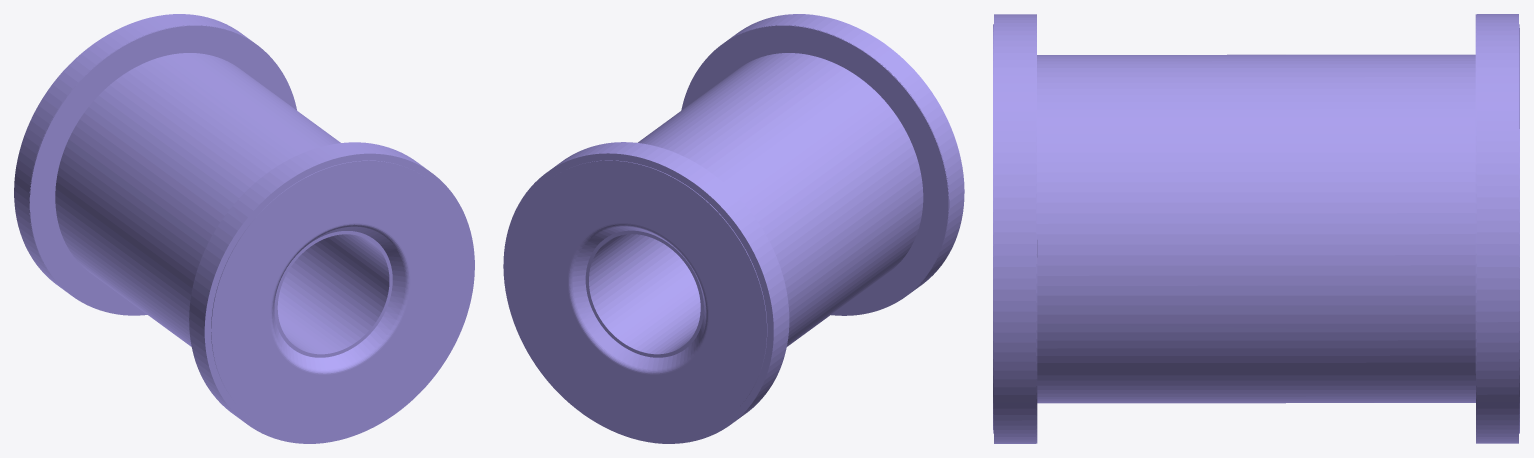
File: LArBarrel_Simple.glb
3 views of the same model, side by side, from view 1: azimuth 30°, elevation 25°; view 2: azimuth 150°, elevation 25°; view 3: azimuth 270°, elevation 25° (orthographic). The views are drawn at different scales.
Visible parts, largest first — view 1: _05EC8638; view 2: _05EC8638; view 3: _05EC8638.
Part boxes in pixels (x1=…): _05EC8638: x1=14, y1=14, x2=474, y2=443; _05EC8638: x1=503, y1=14, x2=964, y2=443; _05EC8638: x1=993, y1=14, x2=1519, y2=443.
Size of the model in its own units: 5.56 by 5.56 by 6.81.
